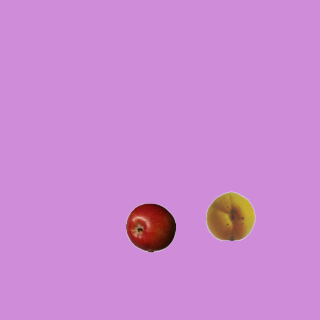Apple Braeburn: (125, 202, 175, 252)
Peach 2: (205, 190, 255, 240)
